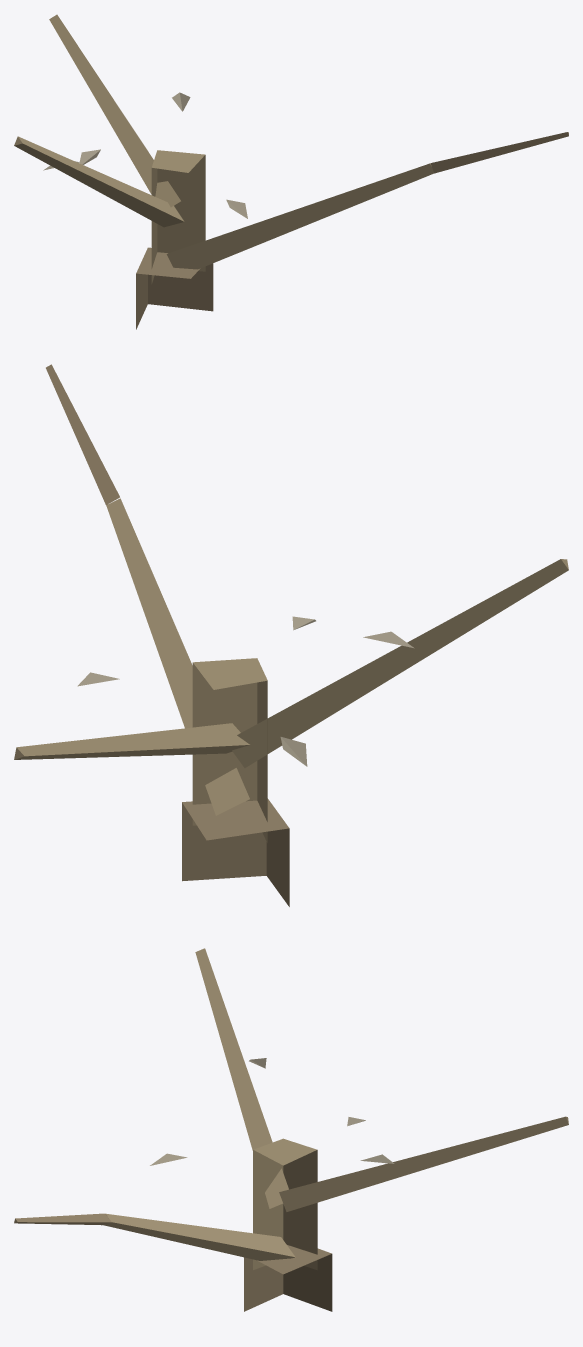
The model's file is shu.yinxing@withered__autumn.glb.
The picture shows the model from 3 angles, top to bottom: view 1: azimuth 30°, elevation 25°; view 2: azimuth 150°, elevation 25°; view 3: azimuth 270°, elevation 25°; orthographic projection. The views are drawn at different scales.
Parts seen in each view (by area): view 1: shu.yinxing@withered__autumn; view 2: shu.yinxing@withered__autumn; view 3: shu.yinxing@withered__autumn.
Boxes of the visible parts, box(x1,y1,x2,y2) form: shu.yinxing@withered__autumn: box(14, 14, 568, 329); shu.yinxing@withered__autumn: box(14, 364, 568, 906); shu.yinxing@withered__autumn: box(14, 948, 568, 1311).
Bounding box in the file's own units: 7.09 × 3.79 × 7.13.
